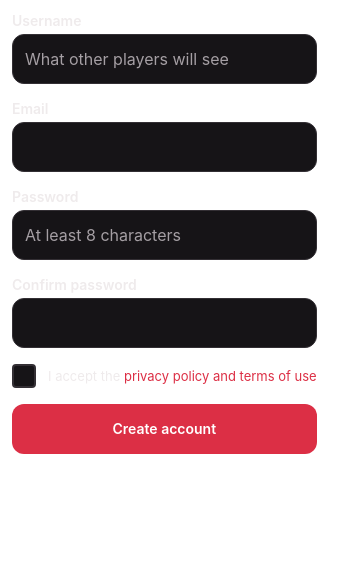
Test: RegisterForm › validates every field with the shared schema
The width and height of the screenshot is (351, 581).
In the field named "Username": (164,59) [12,34,317,84], type "a"
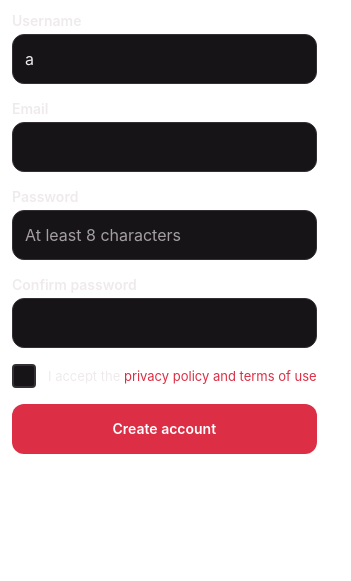
In the field named "Email": (164,147) [12,122,317,172], type "not-an-email"
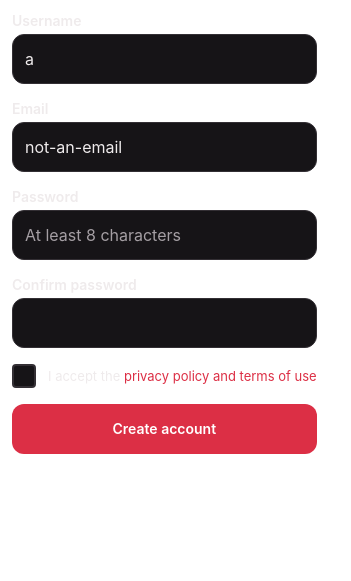
In the password field named "Password": (164,235) [12,210,317,260], type "123"
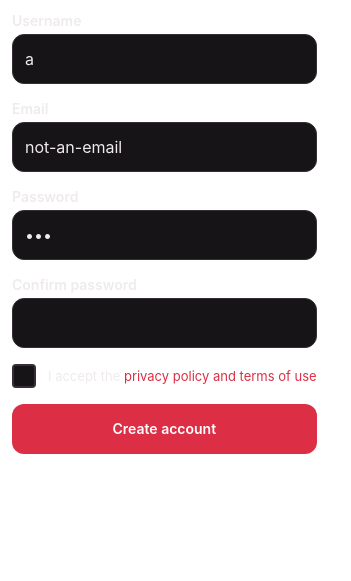
In the password field named "Confirm password": (164,323) [12,298,317,348], type "456"
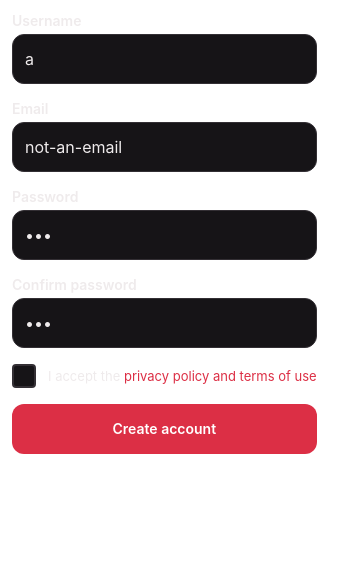
Click the button "Create account": (164,429) [12,404,317,454]
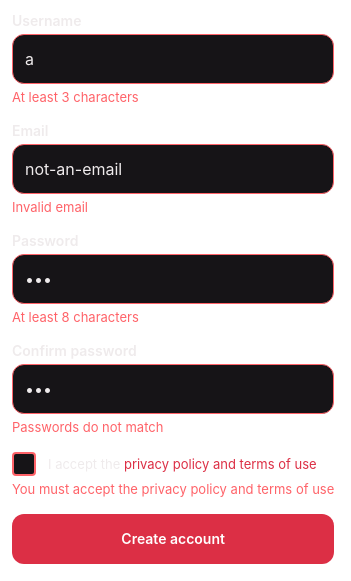
Check: the text "At least 3 characters" is shown, box [12,89,139,105]
Check: the text "Invalid email" is shown, box [12,199,88,215]
Check: the text "Passwords do not match" is shown, box [12,419,163,435]
